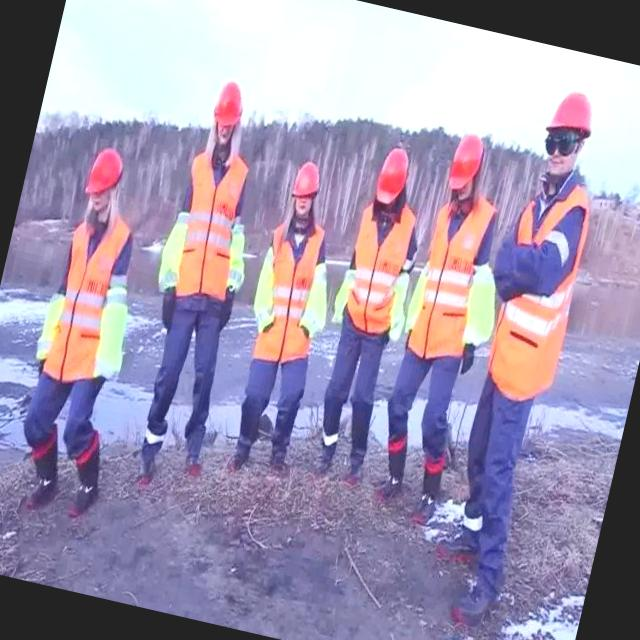vest: (482, 171, 600, 406), (38, 206, 134, 386), (404, 193, 501, 366), (162, 145, 255, 302), (244, 216, 338, 370), (336, 198, 418, 336)
